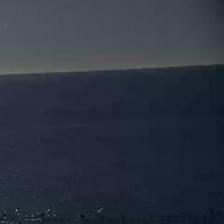surfer: (79, 214, 86, 218), (3, 212, 7, 218), (40, 212, 44, 217), (18, 222, 22, 223)
